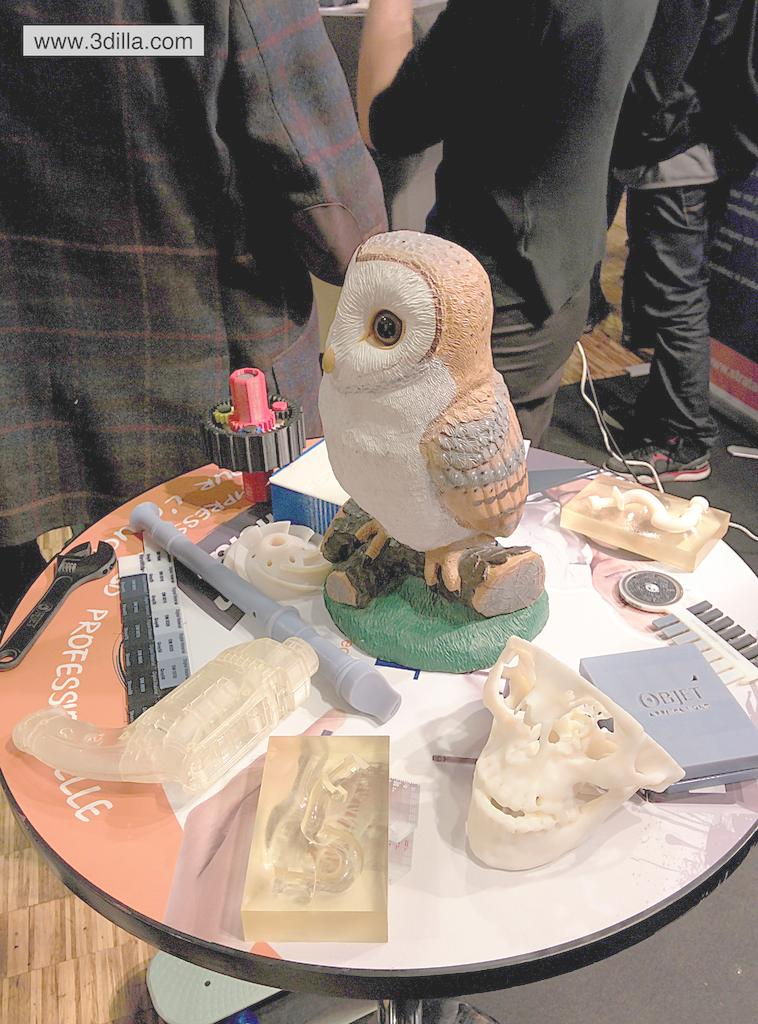Owl: (317, 230, 528, 602)
